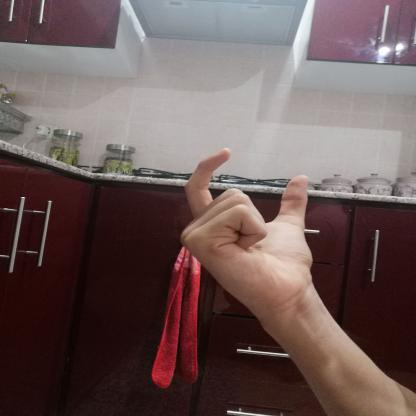NOON: (159, 141, 335, 322)
